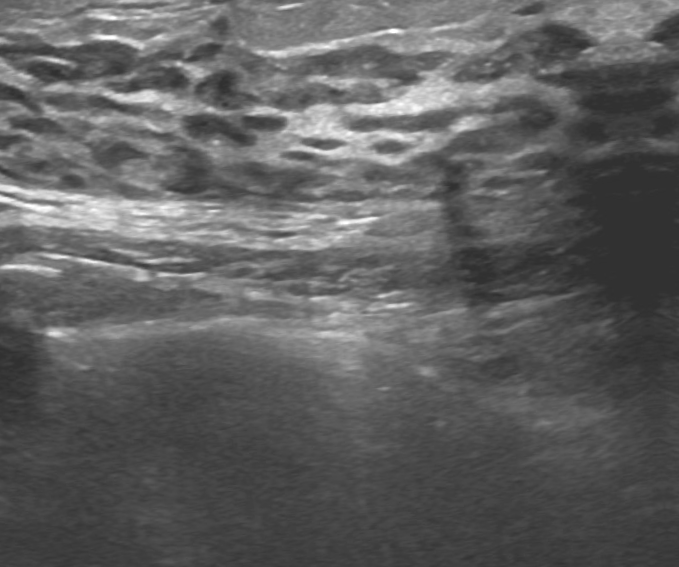Normal: (4, 0, 679, 529)
